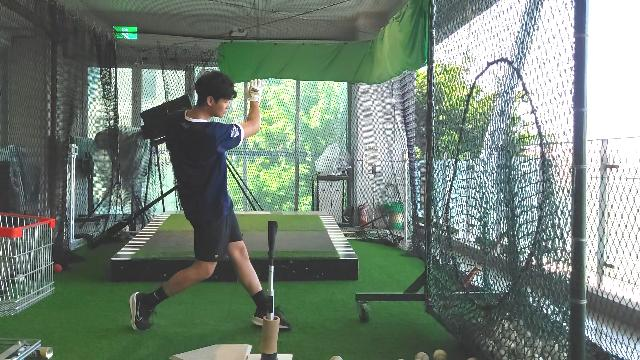baseball bat: (86, 185, 178, 249)
